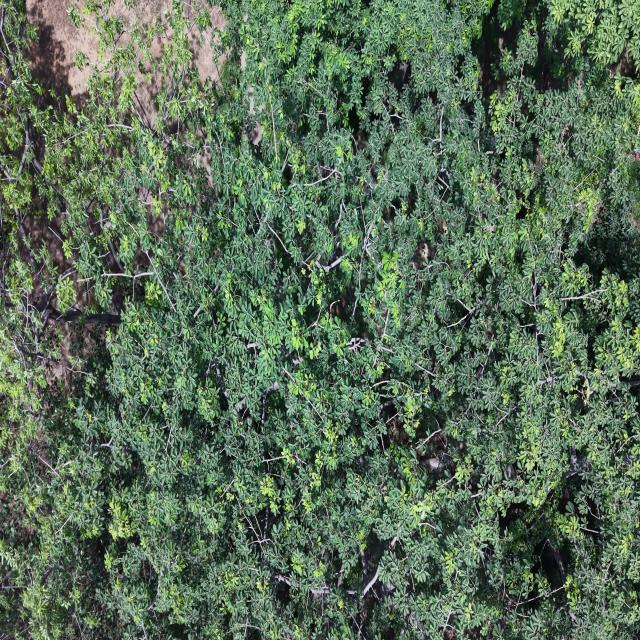DRY_AREA: (27, 0, 98, 103), (27, 0, 98, 102), (27, 0, 98, 97), (27, 0, 97, 96)
VEGETATION_TREE: (0, 0, 639, 639)
